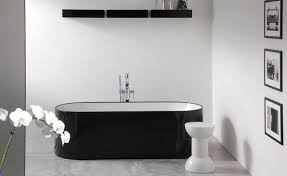bathub: (53, 101, 207, 161)
